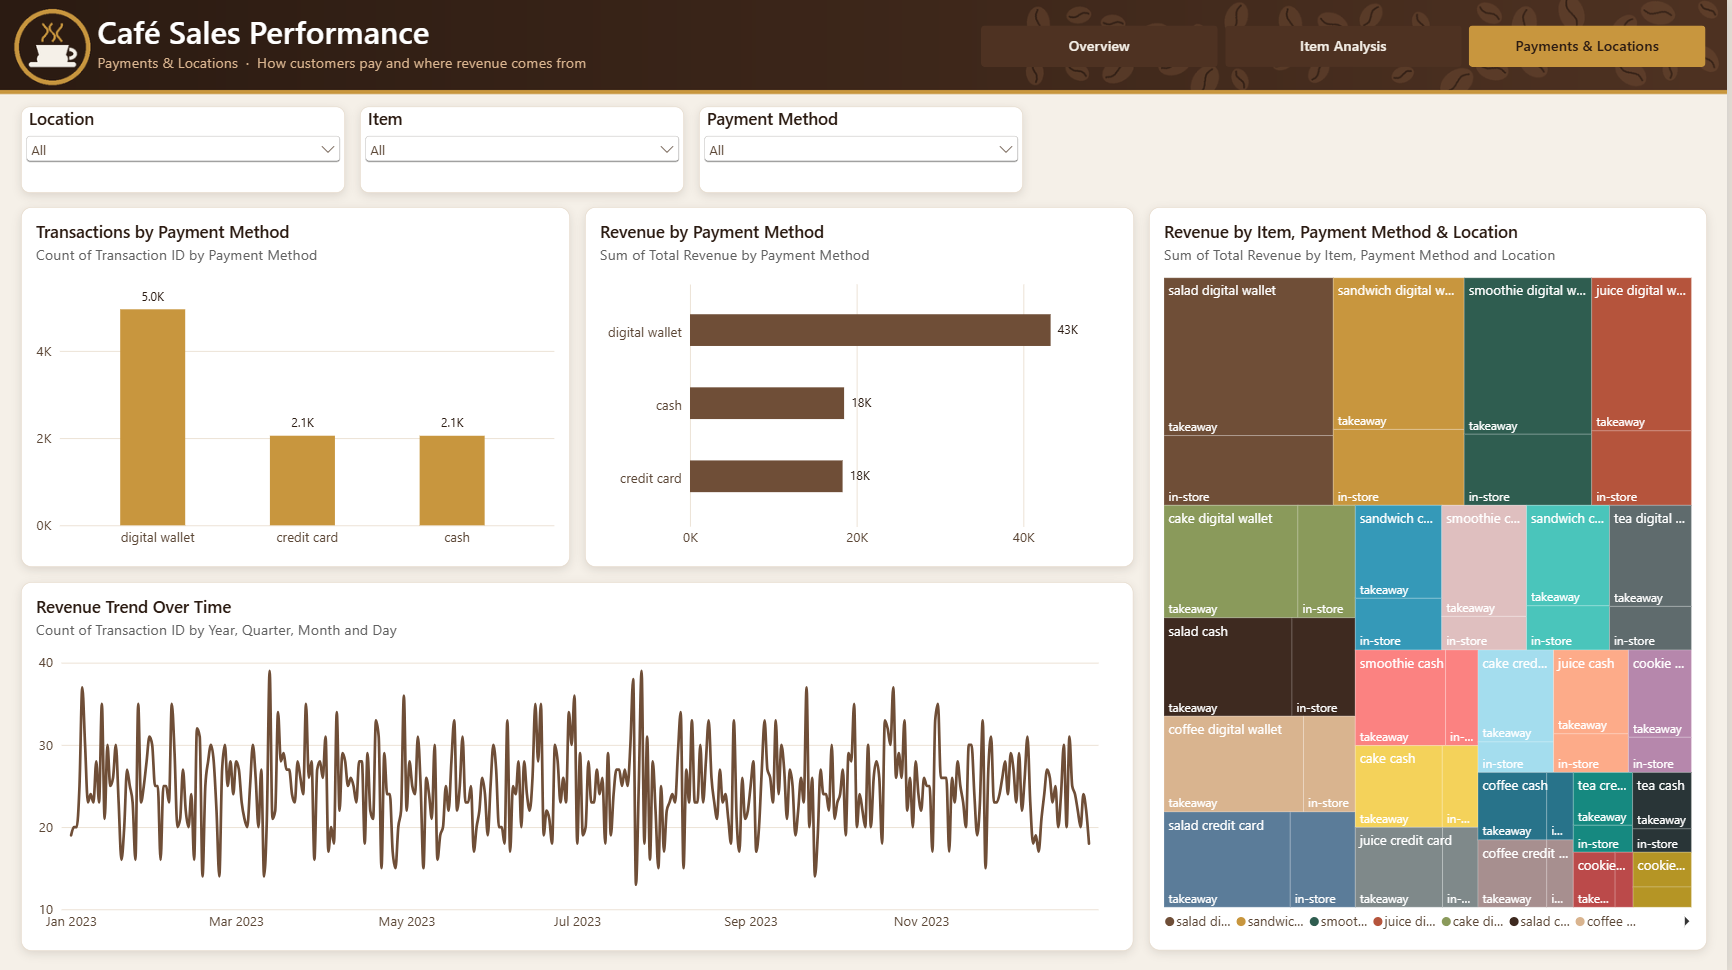

The dashboard page shown, as its layout file describes it:
{"tool":"powerbi","page":{"name":"Payments & Locations","canvas":[1920,1080],"ordinal":2},"visuals":[{"type":"clusteredColumnChart","title":"Transactions by Payment Method","fields":{"Category":["cleaned_cafe-dataset.Payment Method"],"Y":["CountNonNull(cleaned_cafe-dataset.Transaction ID)"]},"box":[24,230,610,400],"z":10},{"type":"clusteredBarChart","title":"Revenue by Payment Method","fields":{"Category":["cleaned_cafe-dataset.Payment Method"],"Y":["Sum(cleaned_cafe-dataset.Total Revenue)"]},"box":[650,230,610,400],"z":11},{"type":"treemap","title":"Revenue by Item, Payment Method & Location","fields":{"Details":["cleaned_cafe-dataset.Location"],"Group":["cleaned_cafe-dataset.Item","cleaned_cafe-dataset.Payment Method"],"Values":["Sum(cleaned_cafe-dataset.Total Revenue)"]},"box":[1276,230,620,826],"z":12},{"type":"lineChart","title":"Revenue Trend Over Time","fields":{"Category":["cleaned_cafe-dataset.Transaction Date.Variation.Date Hierarchy.Year","cleaned_cafe-dataset.Transaction Date.Variation.Date Hierarchy.Quarter","cleaned_cafe-dataset.Transaction Date.Variation.Date Hierarchy.Month","cleaned_cafe-dataset.Transaction Date.Variation.Date Hierarchy.Day"],"Y":["CountNonNull(cleaned_cafe-dataset.Transaction ID)"]},"box":[24,646,1236,410],"z":13},{"type":"slicer","fields":{"Values":["cleaned_cafe-dataset.Location"]},"box":[24,118,360,96],"z":20},{"type":"slicer","fields":{"Values":["cleaned_cafe-dataset.Item"]},"box":[400,118,360,96],"z":21},{"type":"slicer","fields":{"Values":["cleaned_cafe-dataset.Payment Method"]},"box":[776,118,360,96],"z":22},{"type":"textbox","box":[108,12,900,48],"z":30},{"type":"textbox","box":[108,58,960,30],"z":31},{"type":"pageNavigator","box":[1090,28,806,46],"z":32}]}

Visuals, with their boxes in screenshot pixels (x1, y1, x2, y2), scaled from the page's 1920x1080 canvas onto the 1732x970 screenshot:
"Transactions by Payment Method" clusteredColumnChart: left=22, top=207, right=572, bottom=566
"Revenue by Payment Method" clusteredBarChart: left=586, top=207, right=1137, bottom=566
"Revenue by Item, Payment Method & Location" treemap: left=1151, top=207, right=1710, bottom=948
"Revenue Trend Over Time" lineChart: left=22, top=580, right=1137, bottom=948
slicer - cleaned_cafe-dataset.Location: left=22, top=106, right=346, bottom=192
slicer - cleaned_cafe-dataset.Item: left=361, top=106, right=686, bottom=192
slicer - cleaned_cafe-dataset.Payment Method: left=700, top=106, right=1025, bottom=192
textbox: left=97, top=11, right=909, bottom=54
textbox: left=97, top=52, right=963, bottom=79
pageNavigator: left=983, top=25, right=1710, bottom=66
